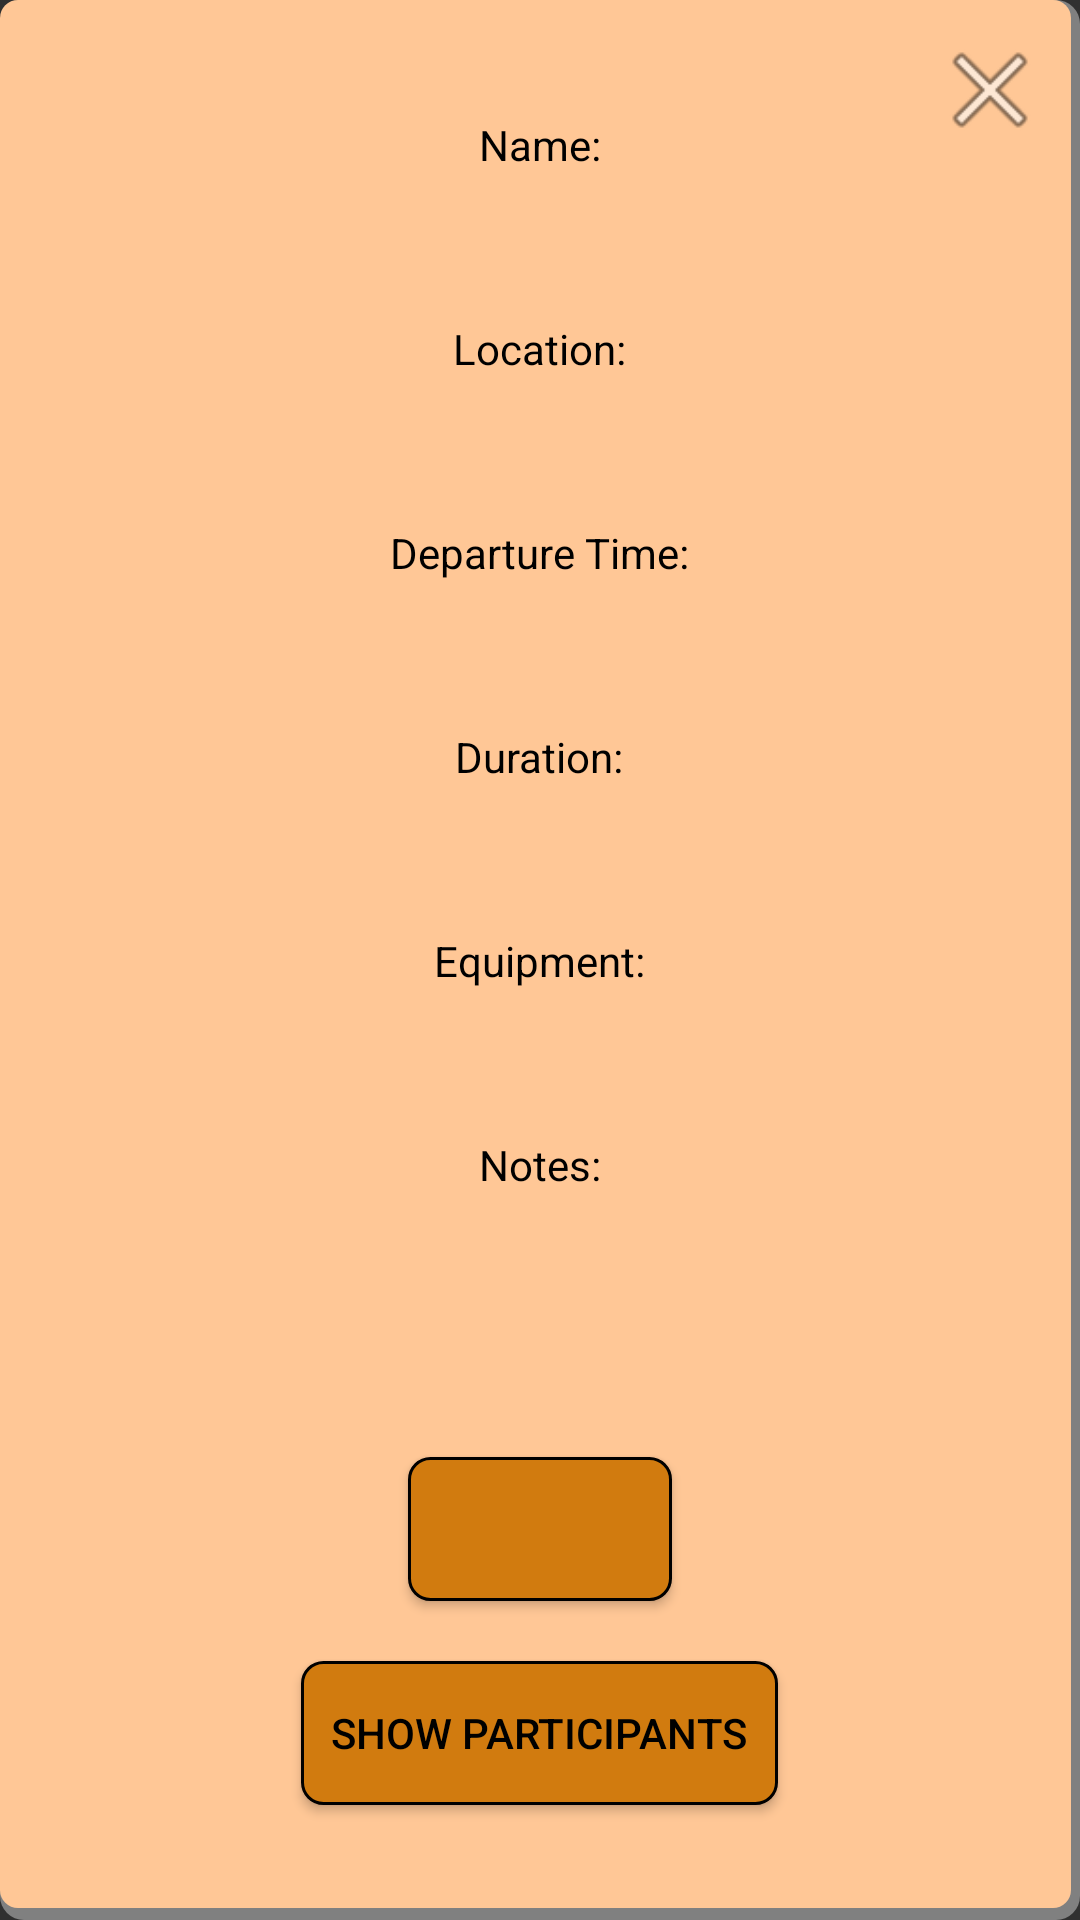

Where icons sit on this 1080px×1920px app screen, as BBox(x1, y1, x2, y2):
close clear cancel: BBox(952, 52, 1028, 128)
